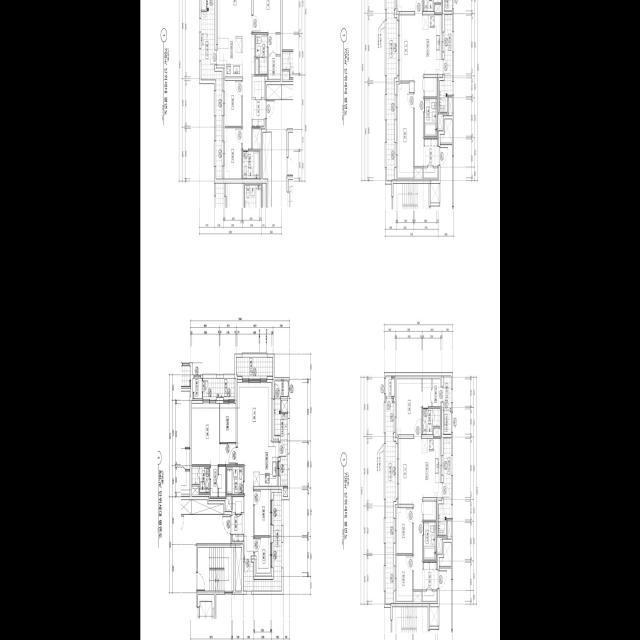background: (140, 0, 500, 640)
space_balconi: (201, 0, 222, 179), (243, 493, 281, 591), (385, 399, 396, 604), (386, 0, 397, 181), (438, 438, 451, 536), (439, 15, 452, 112), (274, 399, 287, 486), (236, 358, 272, 376), (202, 378, 234, 397), (443, 376, 451, 408)
space_bedroom: (192, 404, 236, 465), (397, 83, 413, 178), (396, 379, 421, 435), (224, 128, 241, 179), (253, 0, 280, 32), (396, 508, 412, 554), (254, 490, 270, 536), (225, 81, 241, 126), (396, 556, 412, 601), (254, 537, 270, 573), (397, 0, 422, 11)
space_dressroom: (422, 379, 442, 407), (268, 34, 280, 79), (210, 466, 225, 497)
space_front: (423, 139, 439, 178), (251, 99, 266, 127), (422, 562, 437, 590), (232, 514, 244, 542)
space_kitchen: (422, 438, 442, 498), (423, 15, 443, 74), (253, 442, 279, 486), (217, 36, 242, 77)
space_living_room: (237, 383, 271, 556), (217, 0, 254, 149), (399, 15, 423, 166), (398, 439, 422, 590)
space_multipurpose_space: (220, 403, 236, 442)
space_other: (191, 500, 223, 514), (440, 119, 452, 143), (439, 543, 451, 566), (235, 547, 241, 591), (252, 76, 264, 97), (423, 501, 436, 520), (424, 78, 437, 97), (274, 381, 287, 396), (430, 184, 440, 203), (429, 607, 439, 626), (443, 411, 451, 434), (232, 497, 243, 512), (252, 129, 260, 149), (422, 591, 436, 601), (444, 0, 452, 11), (225, 496, 231, 510), (413, 592, 421, 602), (414, 168, 422, 178), (447, 520, 451, 539), (437, 114, 442, 129), (436, 537, 441, 552), (281, 400, 287, 412), (448, 97, 452, 115), (434, 5, 441, 13), (433, 428, 440, 436), (201, 0, 206, 10), (192, 486, 198, 494), (255, 59, 258, 74), (283, 488, 287, 496)
space_outdoor_room: (192, 378, 202, 399), (385, 376, 394, 397)
space_staircase: (198, 548, 233, 591)
space_toilet: (424, 99, 437, 137), (423, 522, 436, 560), (226, 466, 243, 495), (422, 408, 440, 435), (255, 34, 267, 74), (242, 151, 259, 179), (192, 466, 209, 493), (423, 0, 441, 11)
